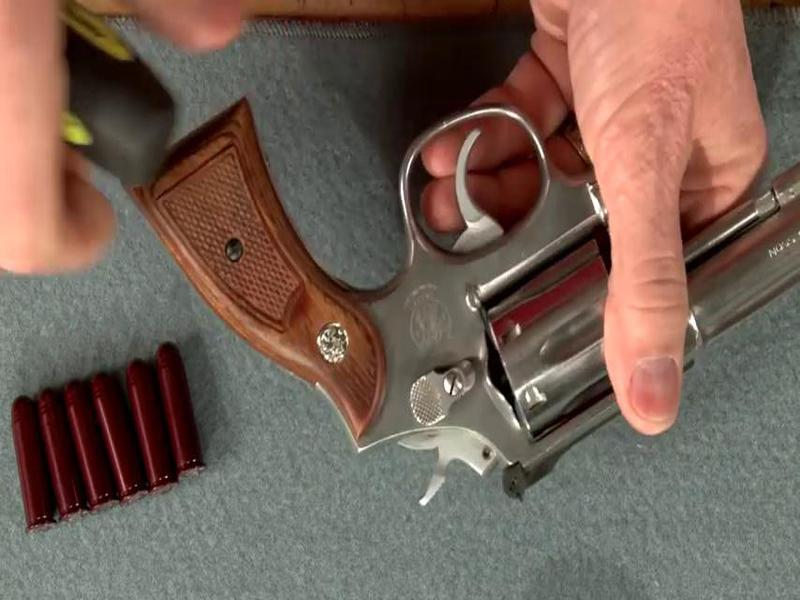Revolver: (102, 85, 800, 517)
